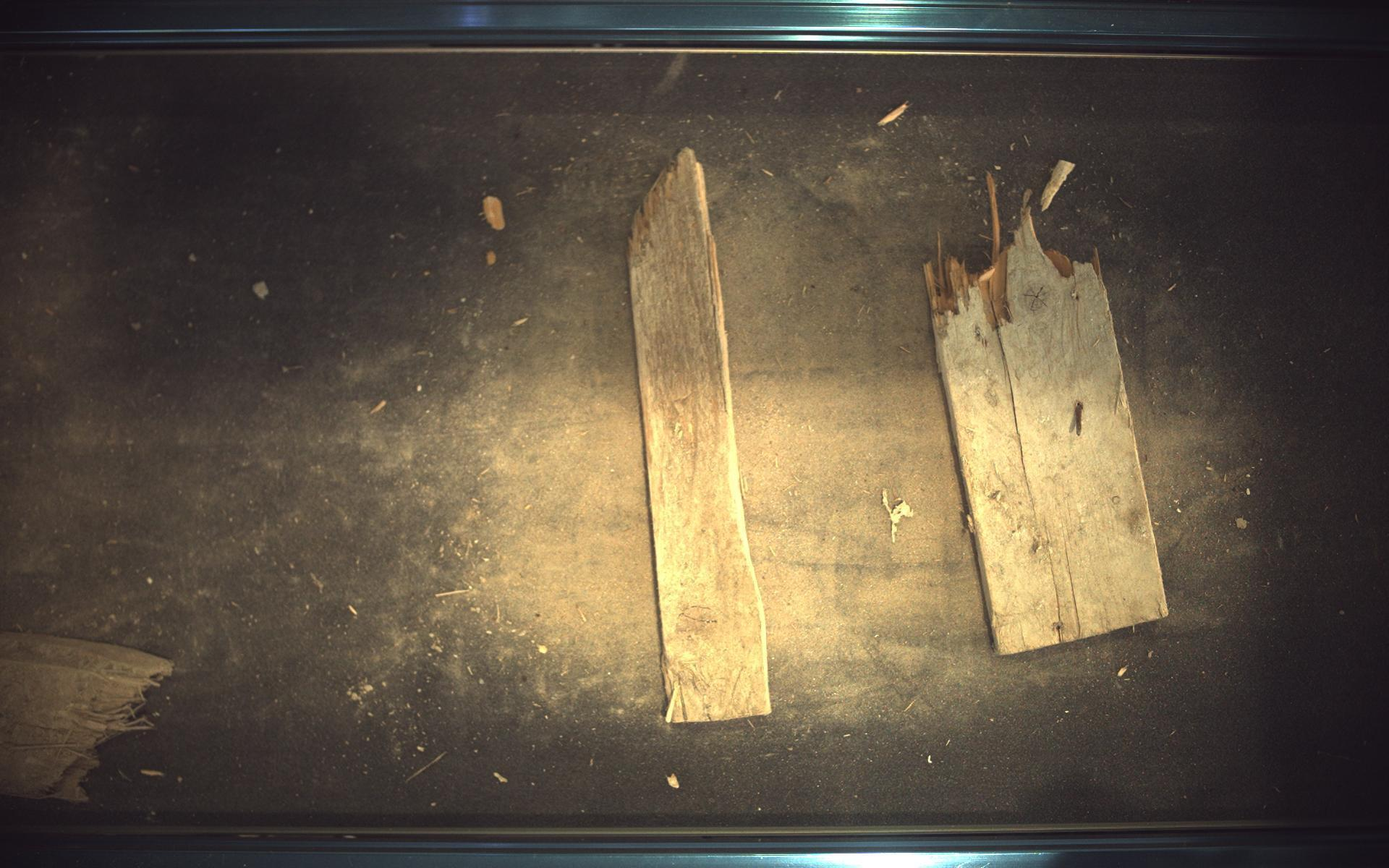wood: (926, 191, 1171, 655), (629, 148, 773, 724), (1, 633, 171, 803)
